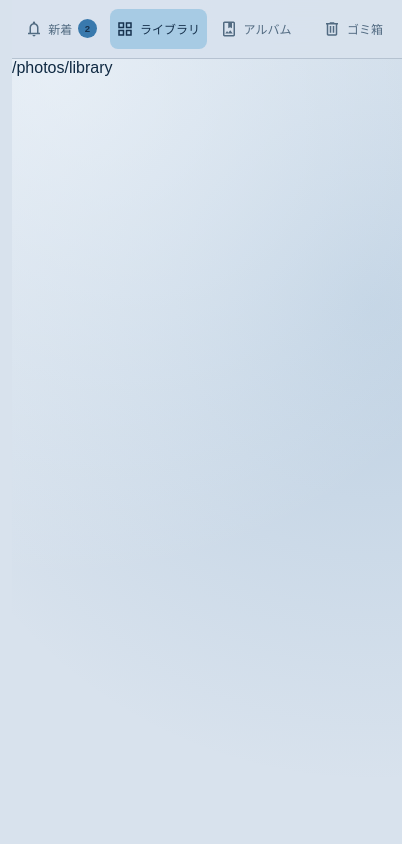
Test: AppNavigation › switches between photo views using section tabs
Click the link named "新着2" at (61, 29), box [24,19,97,38]
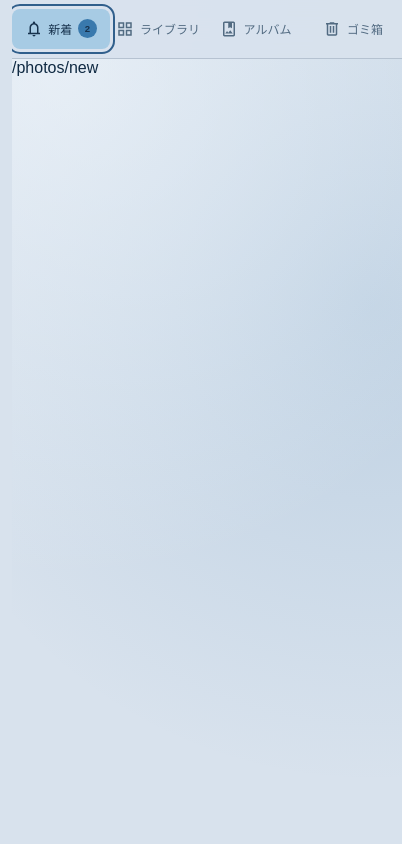
Expected: the text named "current path" reads "/photos/new", [12,59,98,76]
